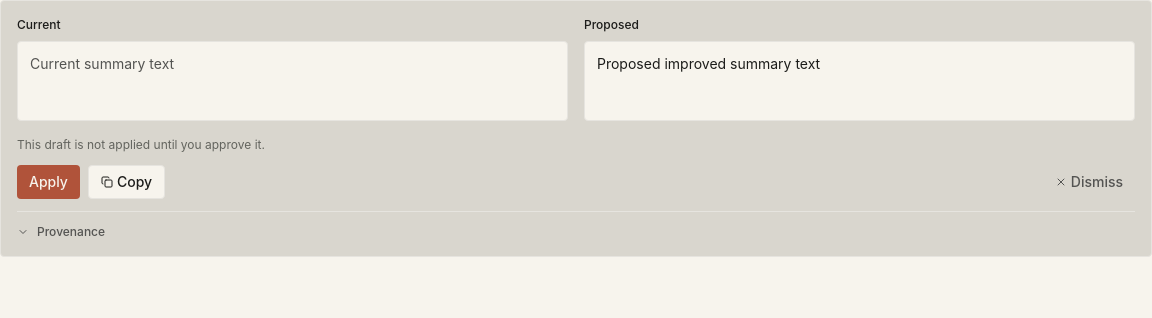
SuggestionCard › provenance › shows template version when provided
Click the button "Provenance". click: (61, 232)
box: [17,224,105,240]
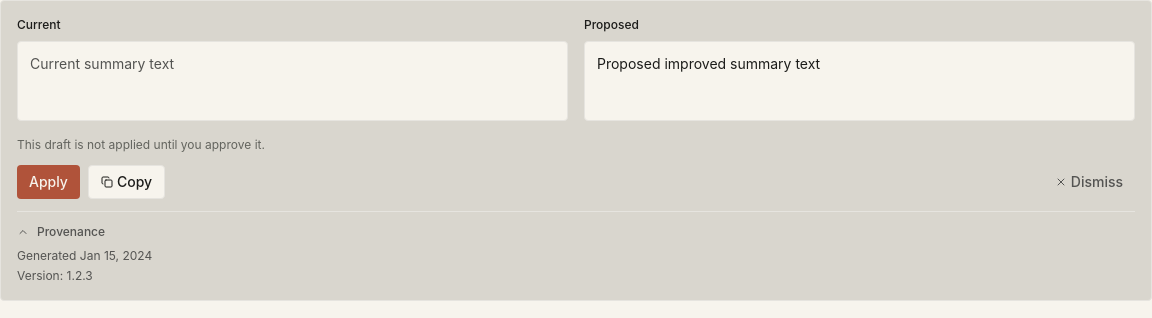
Result: the text "Version: 1.2.3" is shown at [17,268,93,283]
